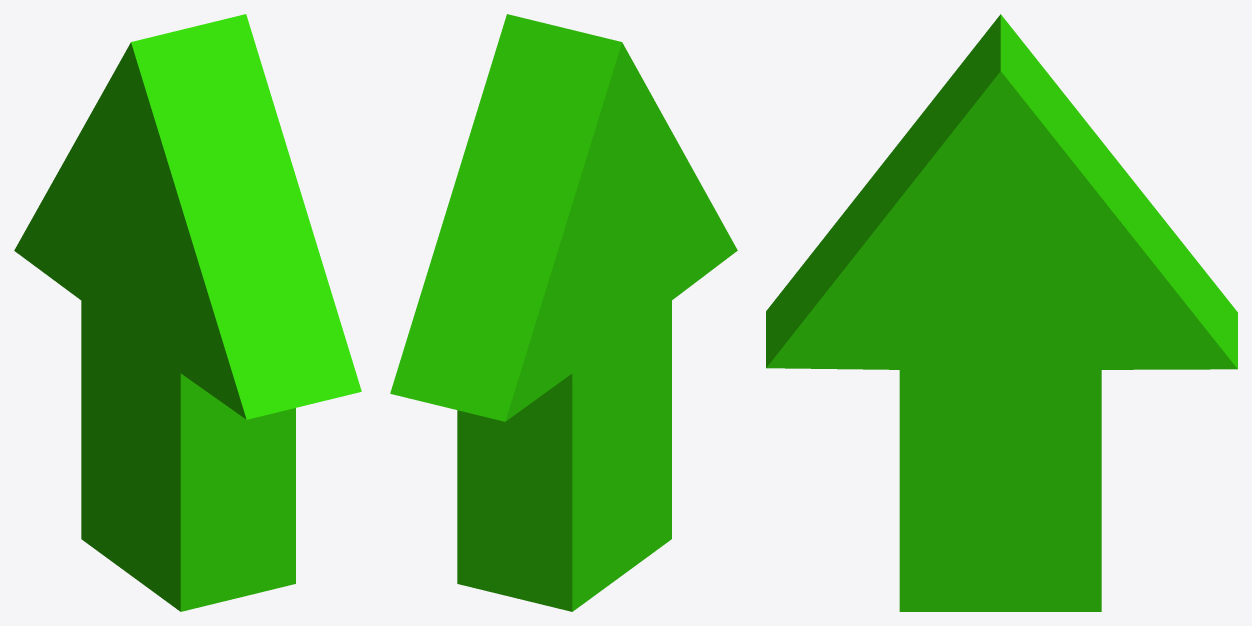
Rendered from Upgrade.fbx.
3 renders of one model, left to right at view 1: azimuth 30°, elevation 25°; view 2: azimuth 150°, elevation 25°; view 3: azimuth 270°, elevation 25°, orthographic.
Visible parts, largest first — view 1: Upgrade; view 2: Upgrade; view 3: Upgrade.
Part boxes in pixels (x1,y1,x2,y2): Upgrade: [14, 14, 361, 611]; Upgrade: [390, 14, 737, 611]; Upgrade: [766, 14, 1237, 611].
Size of the model in its own units: 53.88 by 238 by 188.
